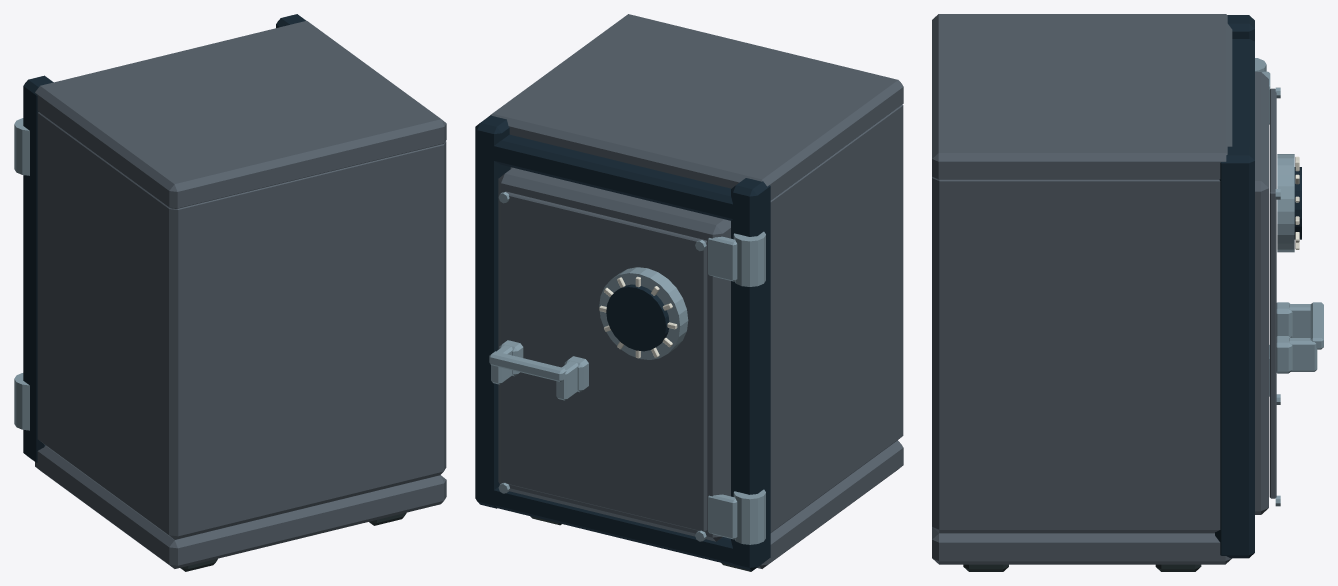
Rendered from office_armored_safe.glb.
3 renders of one model, left to right at view 1: azimuth 30°, elevation 25°; view 2: azimuth 150°, elevation 25°; view 3: azimuth 270°, elevation 25°, orthographic. The views are drawn at different scales.
Parts seen in each view (by area): view 1: body_back_wall, body_left_wall, body_roof, body_floor, body_right_wall, front_frame, hinge_pin (×2); view 2: moving_front_inset, body_roof, body_left_wall, front_frame (×4), moving_door, body_floor, body_back_wall, moving_combination_dial, hinge_pin (×2), moving_combination_ring, moving_hinge_leaf (×2), moving_lock_handle_bar (+1 smaller); view 3: body_right_wall, body_roof, front_frame (×3), body_floor, moving_door, body_back_wall, moving_front_inset, moving_combination_ring, moving_lock_handle_right, moving_lock_handle_left, moving_lock_handle_bar, moving_lock_handle_mount_r (+1 smaller).
Boxes of the visible parts, x1,y1,x2,y2 form: body_back_wall: [161, 144, 443, 538]; body_left_wall: [37, 112, 195, 539]; body_roof: [35, 20, 446, 208]; body_floor: [35, 445, 446, 568]; body_right_wall: [423, 141, 446, 479]; front_frame: [23, 75, 53, 462]; hinge_pin (×2): [14, 118, 29, 430]; moving_front_inset: [502, 191, 707, 531]; body_roof: [490, 14, 903, 200]; body_left_wall: [770, 104, 903, 532]; front_frame (×4): [475, 115, 770, 570]; moving_door: [498, 167, 730, 541]; body_floor: [757, 440, 903, 568]; body_back_wall: [892, 105, 903, 442]; moving_combination_dial: [606, 284, 669, 351]; hinge_pin (×2): [733, 231, 765, 544]; moving_combination_ring: [599, 267, 688, 359]; moving_hinge_leaf (×2): [708, 236, 737, 539]; moving_lock_handle_bar: [489, 351, 566, 381]; body_right_wall: [932, 177, 1220, 533]; body_roof: [932, 14, 1232, 179]; front_frame (×3): [1215, 15, 1254, 558]; body_floor: [932, 527, 1231, 564]; moving_door: [1255, 72, 1268, 514]; body_back_wall: [939, 179, 960, 533]; moving_front_inset: [1269, 88, 1276, 498]; moving_combination_ring: [1277, 154, 1294, 252]; moving_lock_handle_right: [1289, 337, 1317, 371]; moving_lock_handle_left: [1289, 304, 1310, 337]; moving_lock_handle_bar: [1310, 302, 1323, 349]; moving_lock_handle_mount_r: [1276, 336, 1292, 373].
Bounding box in the file's own units: 0.9265 × 1.25 × 1.03.
